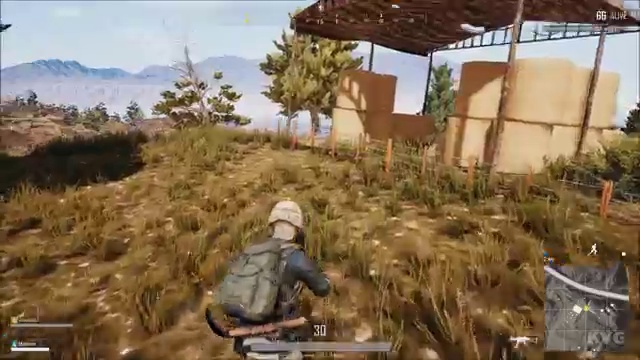Player: (200, 188, 357, 326)
